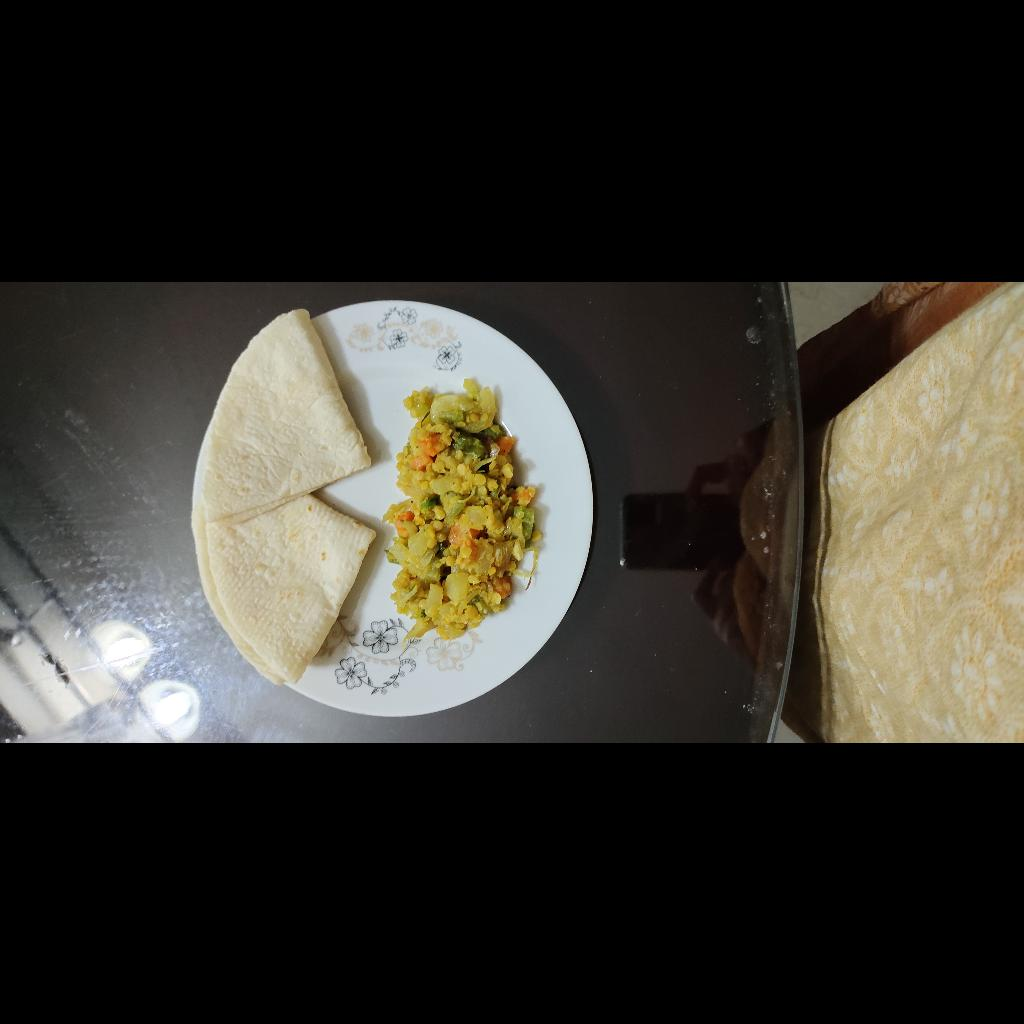ruti: (58, 471, 439, 658)
vegetable: (99, 655, 364, 814)
